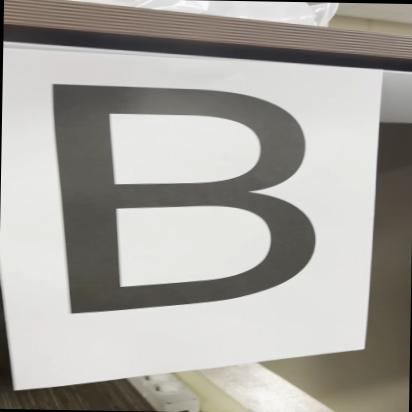seat: (23, 63, 352, 327)
